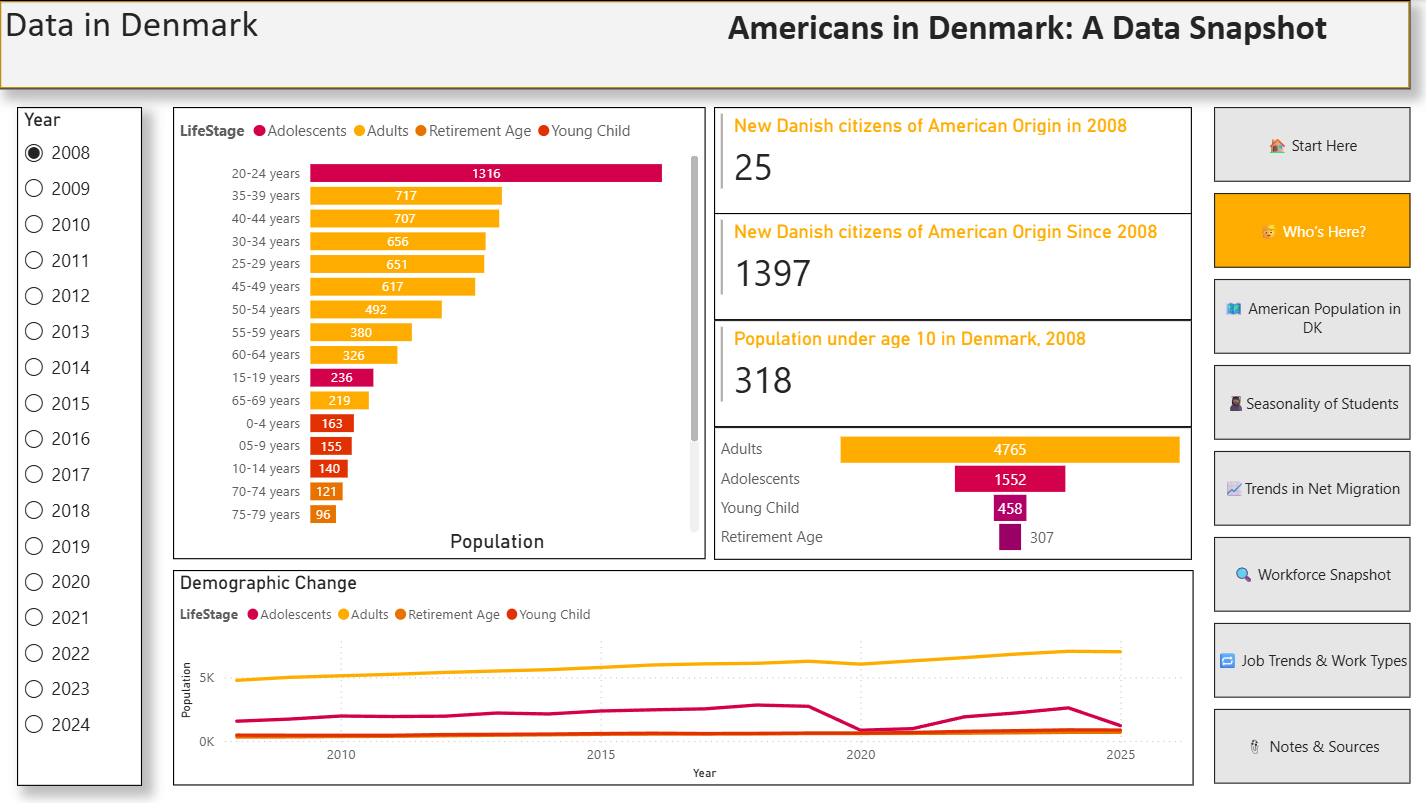

The page's visual inventory and layout, read from the dashboard file:
{"tool":"powerbi","page":{"name":"🧒 Who’s Here?","canvas":[1280,720],"ordinal":1},"visuals":[{"type":"shape","box":[0,0,1264,80],"z":0,"group":"g1"},{"type":"funnel","fields":{"Y":["Measures (do not delete).Total Population (AgeBand)"],"Category":["Dim_AgeGroup.LifeStage"]},"box":[640.5,382.4,428.4,118.9],"z":0},{"type":"listSlicer","fields":{"Values":["Dim_Year.Year"]},"box":[16.2,95.9,112.2,608.1],"z":1000},{"type":"multiRowCard","fields":{"Values":["Measures (do not delete).New Citizens Label","Measures (do not delete).New Citizens Since Year"]},"box":[640.5,95.9,428.4,95.9],"z":2000},{"type":"group","id":"g1","title":"Group 3","box":[0,0,1264,80],"z":3000},{"type":"textbox","title":"Data in Denmark","box":[0,0,265,80],"z":4000,"group":"g2"},{"type":"multiRowCard","fields":{"Values":["Measures (do not delete).Under 10s Label","Measures (do not delete).Under 10s Population"]},"box":[640.5,286.5,428.4,95.9],"z":4000},{"type":"textbox","box":[640,0,623.8,80],"z":5000,"group":"g2"},{"type":"barChart","fields":{"Category":["fact_age_pop_yearly.Age band"],"Y":["Sum(fact_age_pop_yearly.Population)"],"Series":["Dim_AgeGroup.LifeStage"]},"box":[155.4,95.9,477,405.4],"z":5000},{"type":"group","id":"g2","title":"Group 4","box":[0,0,1263.8,80],"z":5002,"group":"g1"},{"type":"lineChart","title":"Demographic Change","fields":{"Category":["fact_age_pop_yearly.Year"],"Series":["Dim_AgeGroup.LifeStage"],"Y":["Measures (do not delete).Total Population (All Years)"]},"box":[155.4,510.8,913.5,193.2],"z":6000},{"type":"multiRowCard","fields":{"Values":["Measures (do not delete).New Citizens Since Label","Measures (do not delete).New Citizens SINCE This Year"]},"box":[640.5,190.5,428.4,95.9],"z":7000},{"type":"pageNavigator","box":[1088,96,176,608],"z":8000}]}

Visuals, with their boxes in screenshot pixels (x1, y1, x2, y2), scaled from the page's 1280x720 canvas onto the 1426x803 screenshot:
shape: (0,0,1408,89)
funnel - Measures (do not delete).Total Population (AgeBand) x Dim_AgeGroup.LifeStage: (714,426,1191,559)
listSlicer - Dim_Year.Year: (18,107,143,785)
multiRowCard - Measures (do not delete).New Citizens Label x Measures (do not delete).New Citizens Since Year: (714,107,1191,214)
"Group 3" group: (0,0,1408,89)
"Data in Denmark" textbox: (0,0,295,89)
multiRowCard - Measures (do not delete).Under 10s Label x Measures (do not delete).Under 10s Population: (714,320,1191,426)
textbox: (713,0,1408,89)
barChart - fact_age_pop_yearly.Age band x Sum(fact_age_pop_yearly.Population): (173,107,705,559)
"Group 4" group: (0,0,1408,89)
"Demographic Change" lineChart: (173,570,1191,785)
multiRowCard - Measures (do not delete).New Citizens Since Label x Measures (do not delete).New Citizens SINCE This Year: (714,212,1191,319)
pageNavigator: (1212,107,1408,785)
